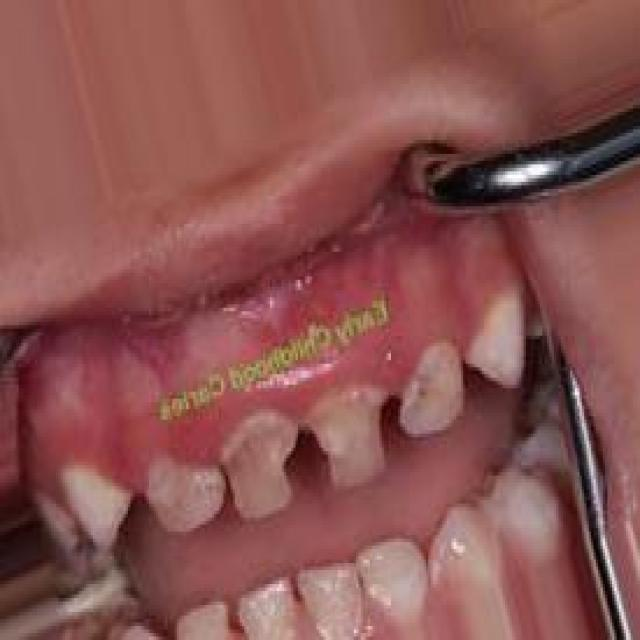caries: (221, 400, 303, 525), (308, 377, 394, 496)
